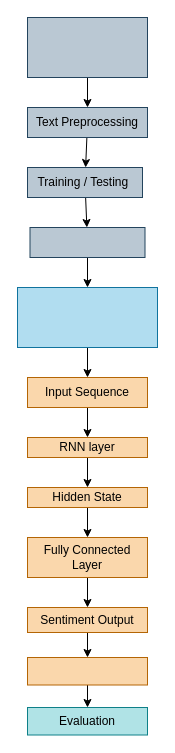
This 175x753 diagram has some shape labels left out. The centre of each missing label's shape, as x and y in pixels:
"IMDb Dataset" belongs at pixel 87 47.
"Positive/Nagetive" belongs at pixel 87 670.
"RNN Architecture" belongs at pixel 87 317.
"Sequence Processing" belongs at pixel 87 242.
